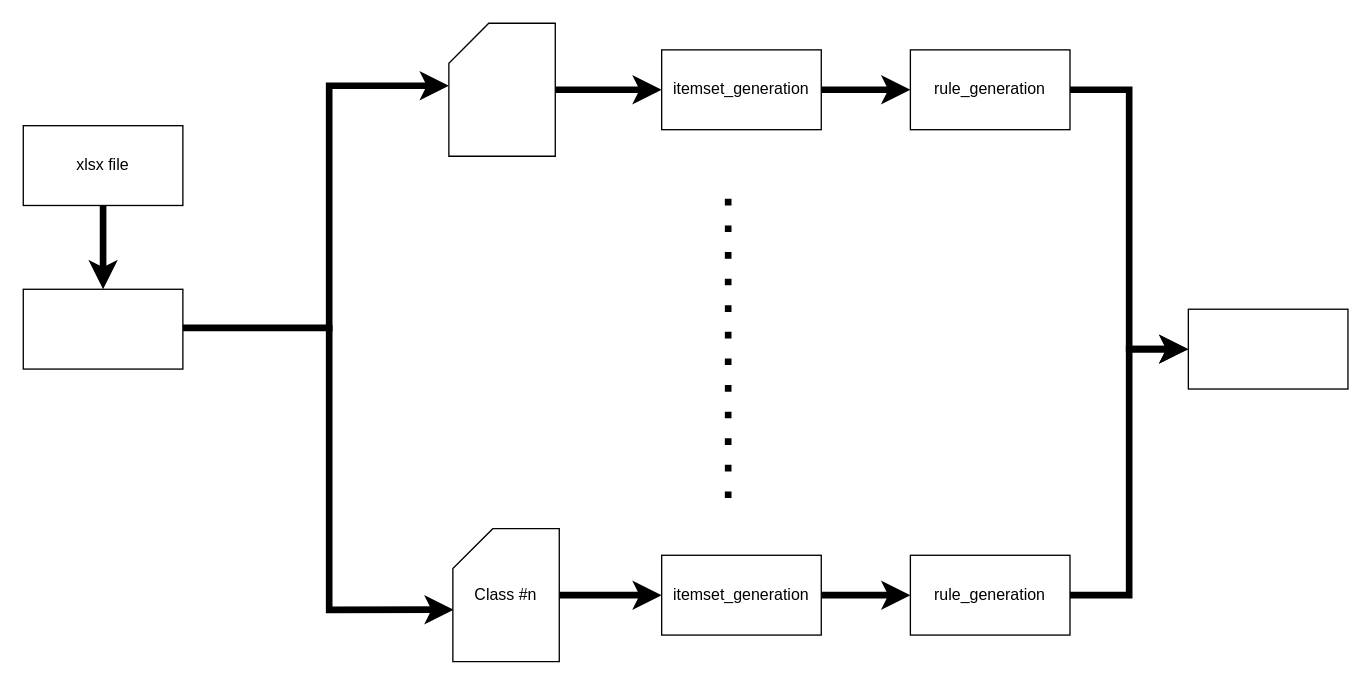
The diagram is 1371 pixels wide and 685 high, and some of its shapes have lost their labels. Here are the shapes that lost their labels. From the top down, the box of each, then its label:
(448, 22, 555, 156): Class #1
(22, 288, 183, 369): Preprocess
(1187, 308, 1348, 389): collocate_results
